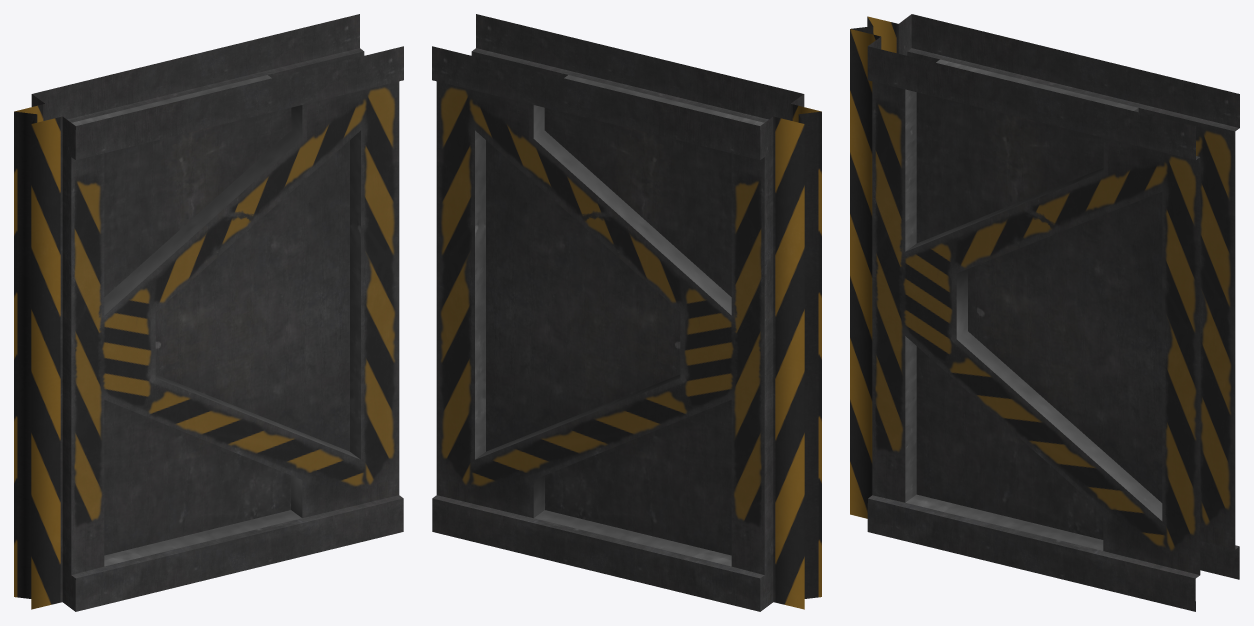
The model's file is ContDoorLeft.obj.
The picture shows the model from 3 angles, left to right: view 1: azimuth 30°, elevation 25°; view 2: azimuth 150°, elevation 25°; view 3: azimuth 330°, elevation 25°; orthographic projection.
Visible parts, largest first — view 1: Mesh; view 2: Mesh; view 3: Mesh.
Part boxes in pixels (x1,y1,x2,y2): Mesh: (14, 14, 403, 611); Mesh: (432, 14, 821, 611); Mesh: (850, 14, 1239, 611).
Size of the model in its own units: 4.44 by 5.74 by 0.9427.
